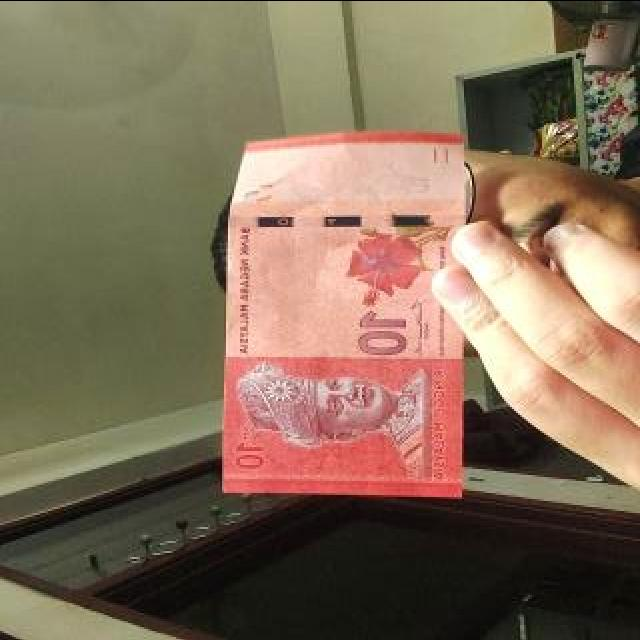10 Ringgit: (226, 127, 469, 498)
